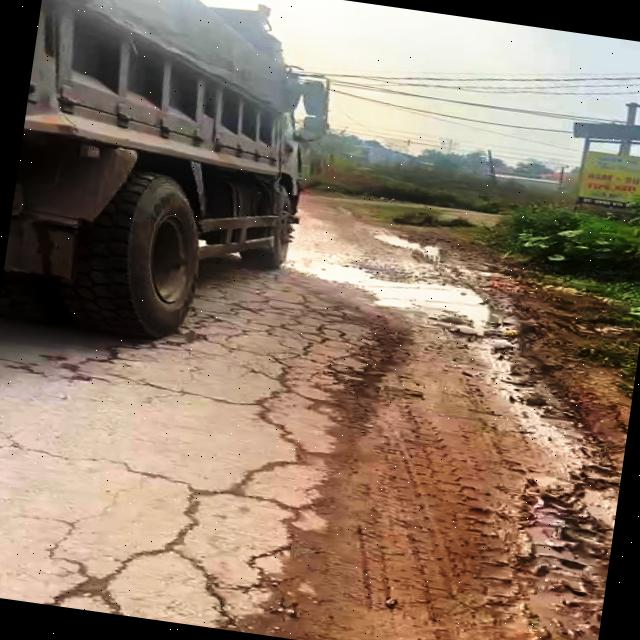pothole: (298, 256, 500, 331)
